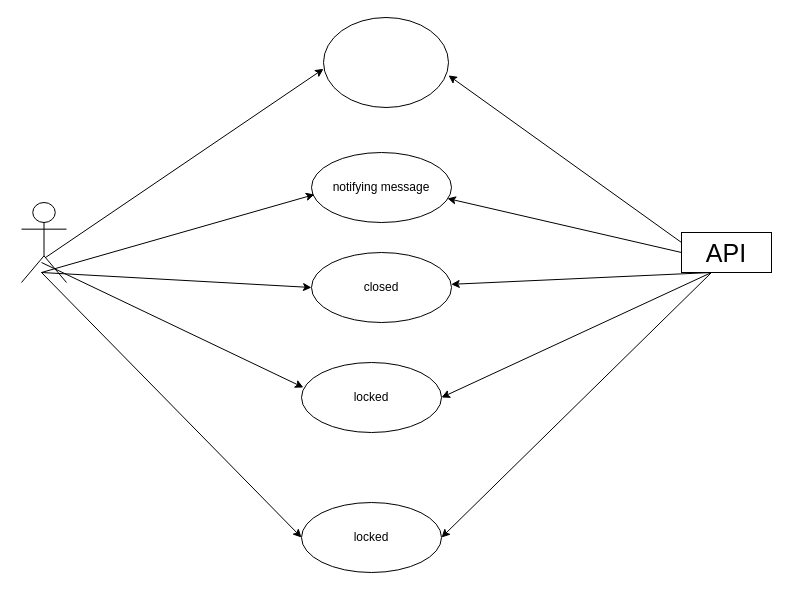
Image size: 789x590. Some labels were removed from this diagram. Here are the shapes that lost their labels. From the top down, the centre of each, then its label:
[385,62]: open
[43,242]: Door
